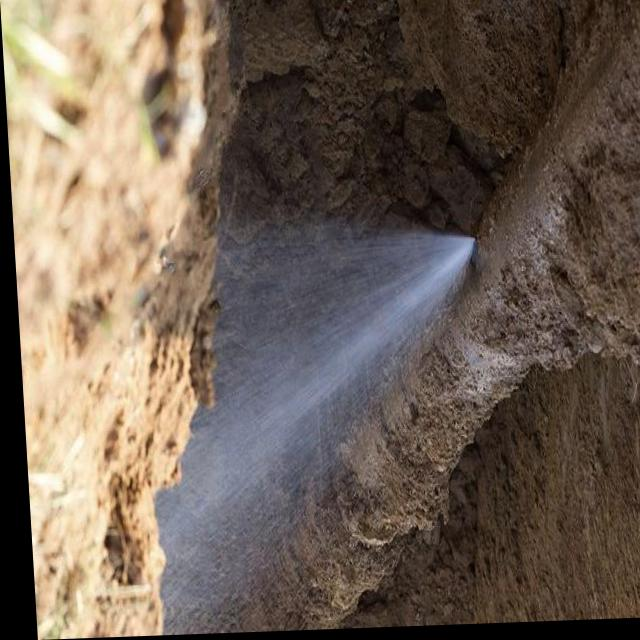leak: (151, 222, 490, 634)
